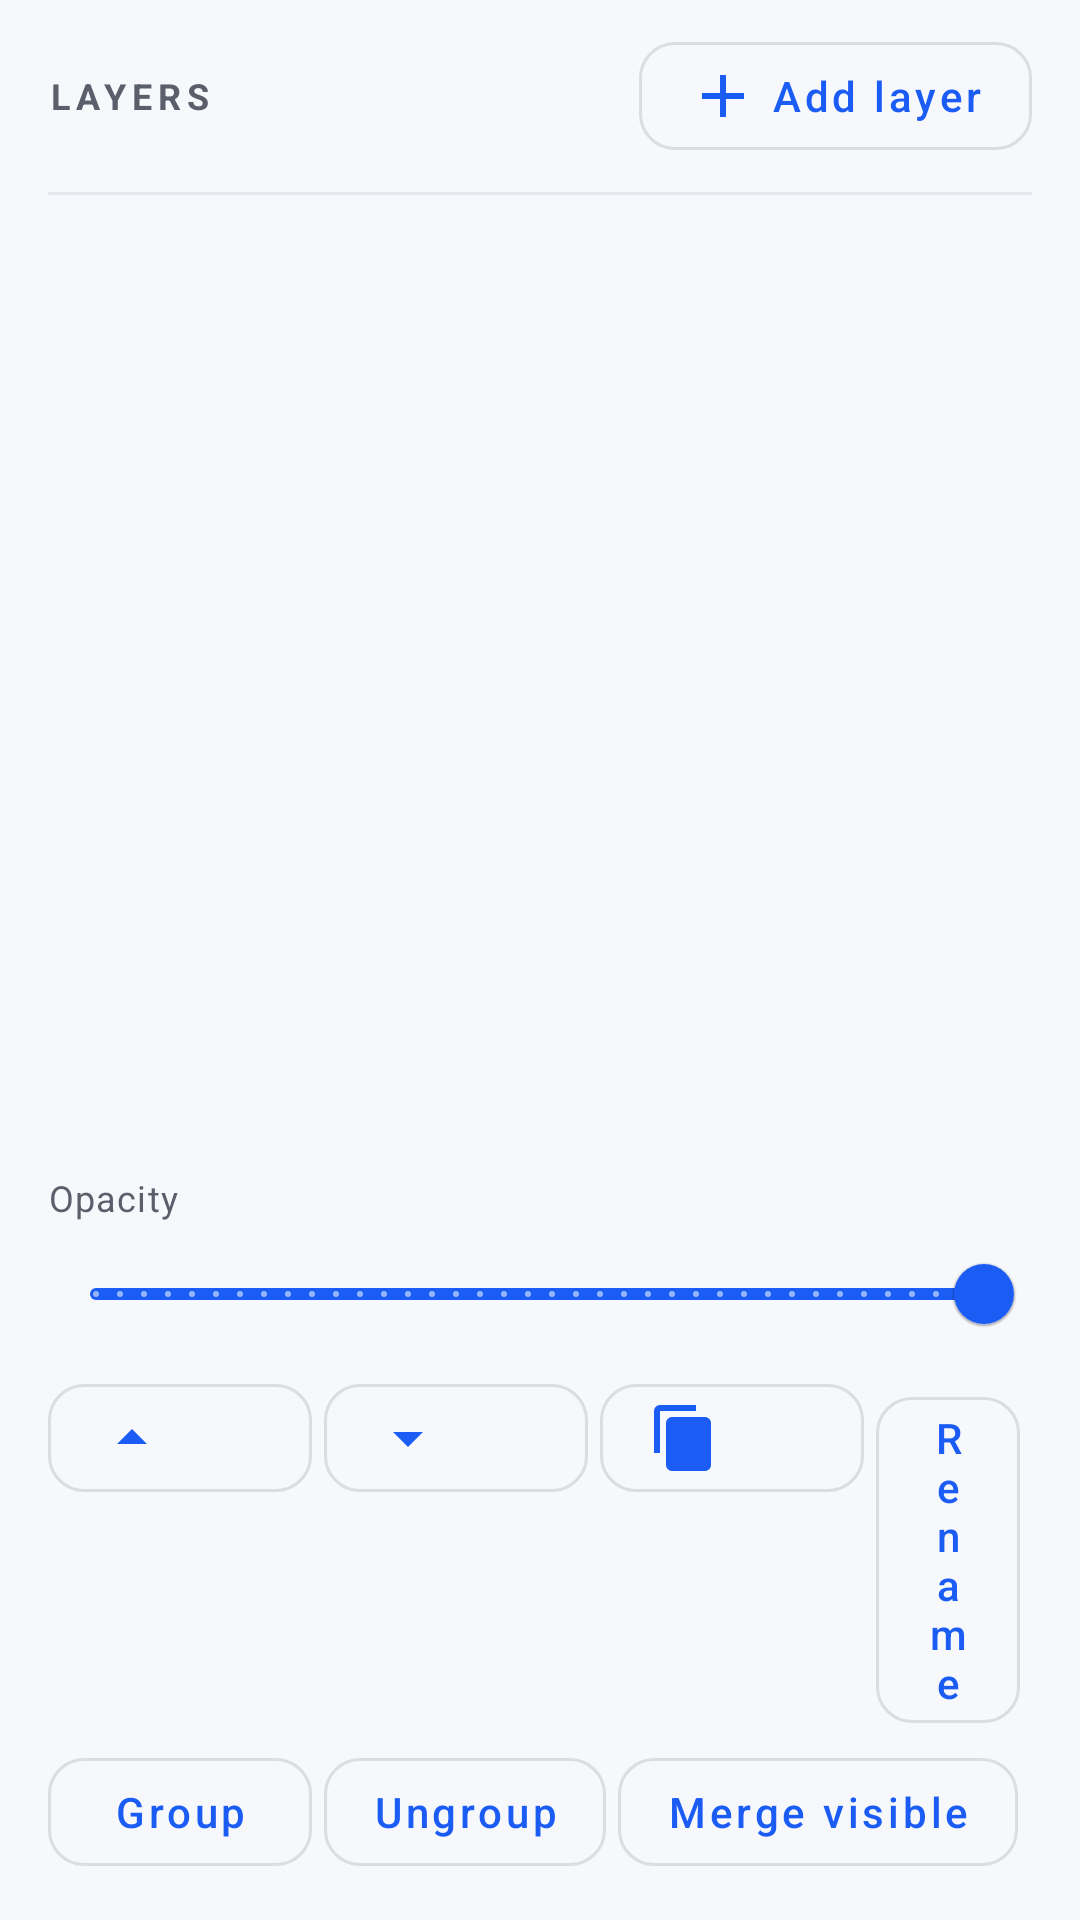

Icons on this 1080 × 1920 Android screen, each with the point to tap as (x=x, y=y):
Duplicate: (x=732, y=1438)
Move down: (x=456, y=1438)
Move up: (x=180, y=1438)
